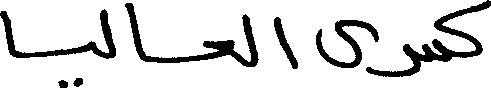X: (317, 15, 377, 79), (451, 0, 490, 63), (274, 12, 297, 73), (124, 0, 145, 66), (388, 39, 416, 81), (203, 35, 233, 64), (243, 9, 257, 71), (0, 6, 15, 61), (101, 4, 114, 63), (86, 36, 95, 58)
